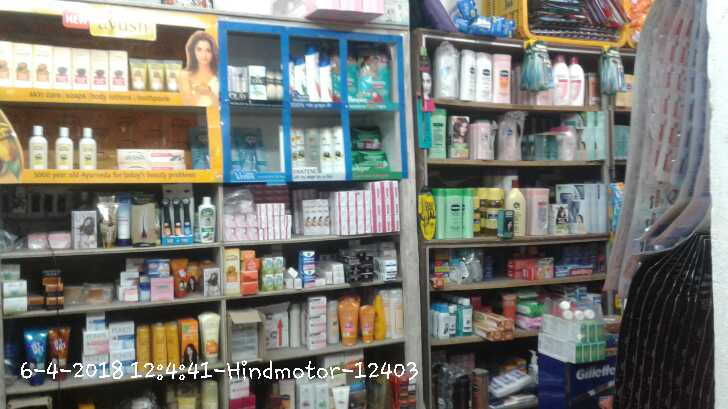venus: (234, 126, 262, 172), (191, 127, 209, 168)
